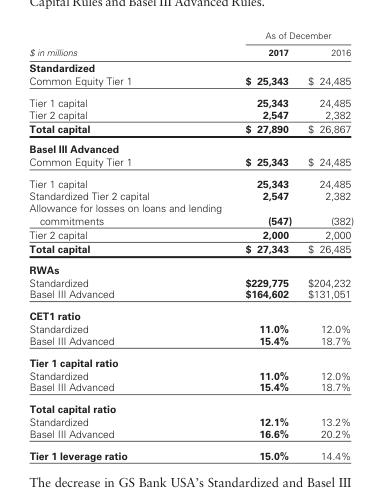table: (28, 29, 353, 461)
table column: (28, 29, 232, 461), (232, 29, 299, 461), (299, 29, 353, 461)
table column header: (28, 29, 353, 59)
table projected row header: (28, 138, 353, 155), (28, 258, 353, 275), (28, 304, 353, 321), (28, 351, 353, 368), (28, 397, 353, 414), (28, 59, 353, 73)
table row: (28, 201, 353, 226), (28, 73, 353, 91), (28, 91, 353, 108), (28, 121, 353, 138), (28, 138, 353, 155), (28, 155, 353, 172), (28, 172, 353, 189), (28, 241, 353, 258), (28, 258, 353, 275), (28, 287, 353, 304), (28, 304, 353, 321), (28, 334, 353, 351), (28, 351, 353, 368), (28, 380, 353, 397), (28, 397, 353, 414), (28, 427, 353, 444), (28, 444, 353, 461), (28, 43, 353, 59), (28, 226, 353, 241), (28, 29, 353, 43), (28, 59, 353, 73), (28, 108, 353, 121), (28, 321, 353, 334), (28, 414, 353, 427), (28, 189, 353, 201), (28, 275, 353, 287), (28, 368, 353, 380)
table spanning cell: (28, 29, 232, 59), (232, 29, 353, 43)
